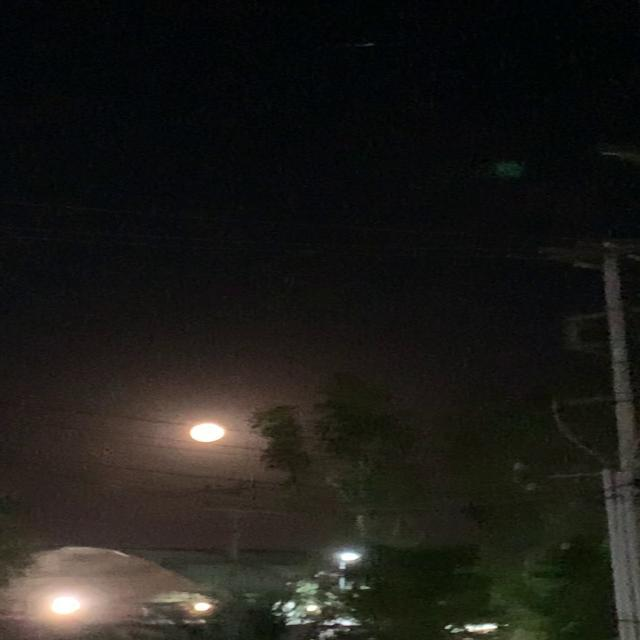moon: (182, 420, 225, 444)
